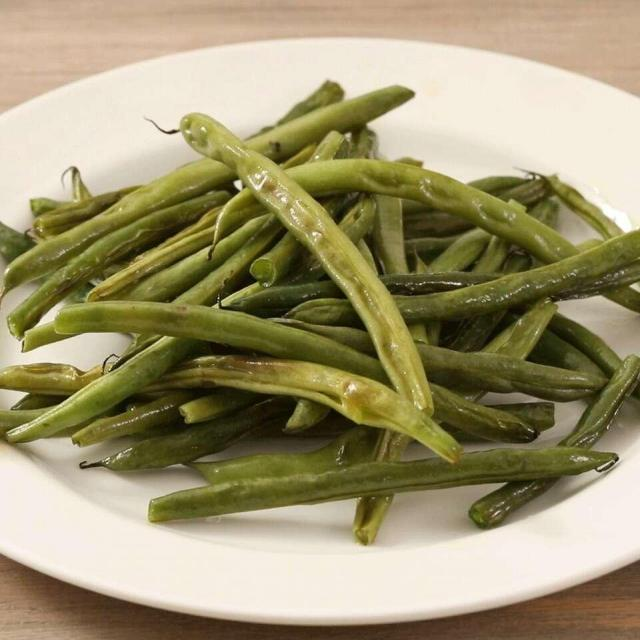Beans: (0, 47, 639, 557)
